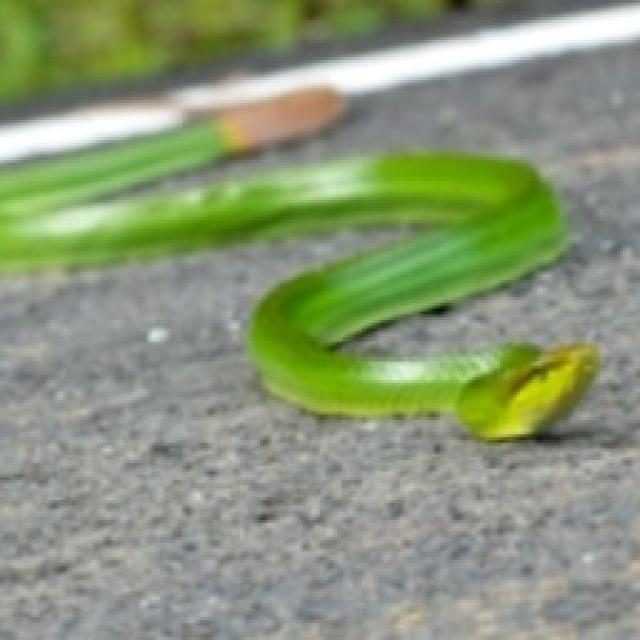red-tailed green ratsnake: (0, 143, 597, 437), (0, 151, 597, 437)
